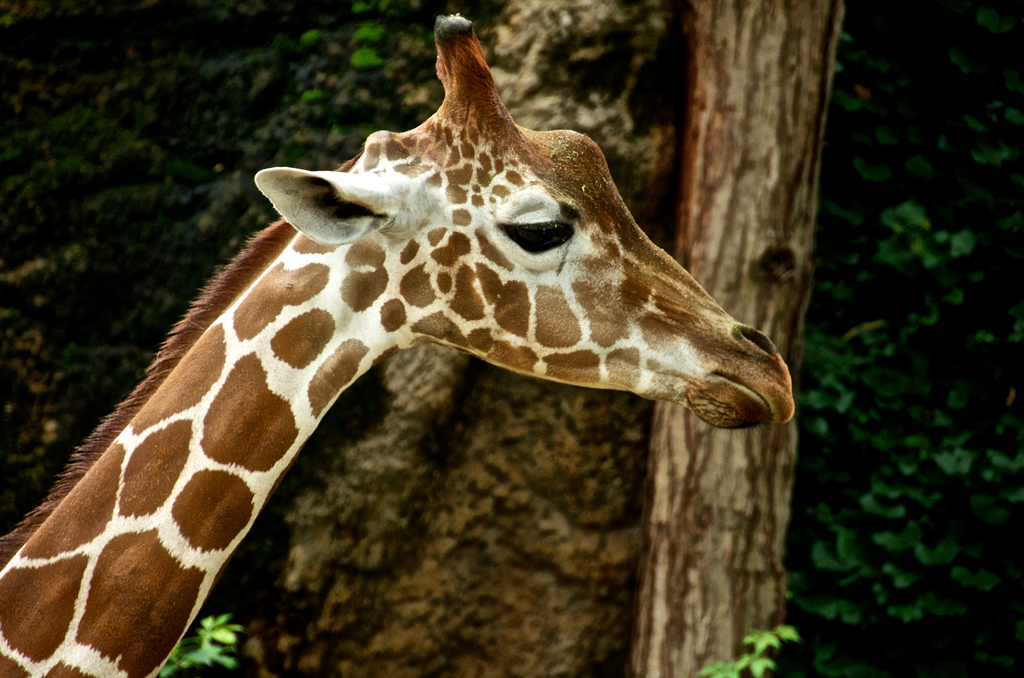giraffe: (60, 44, 893, 607)
